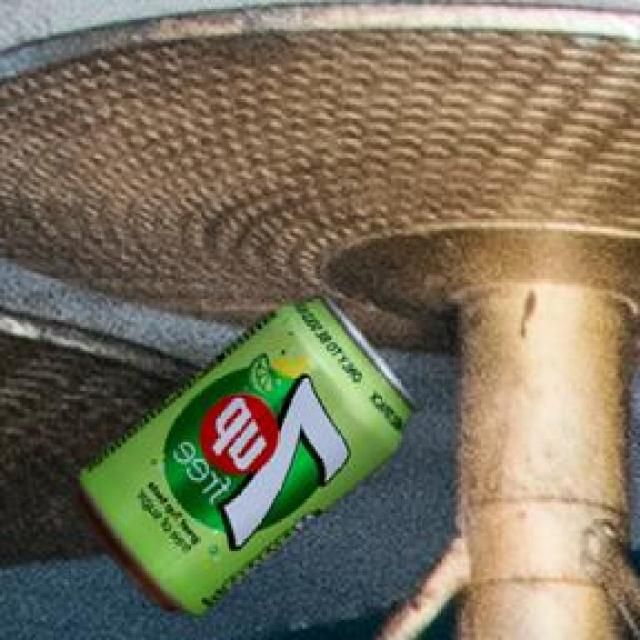logam: (74, 297, 417, 619)
